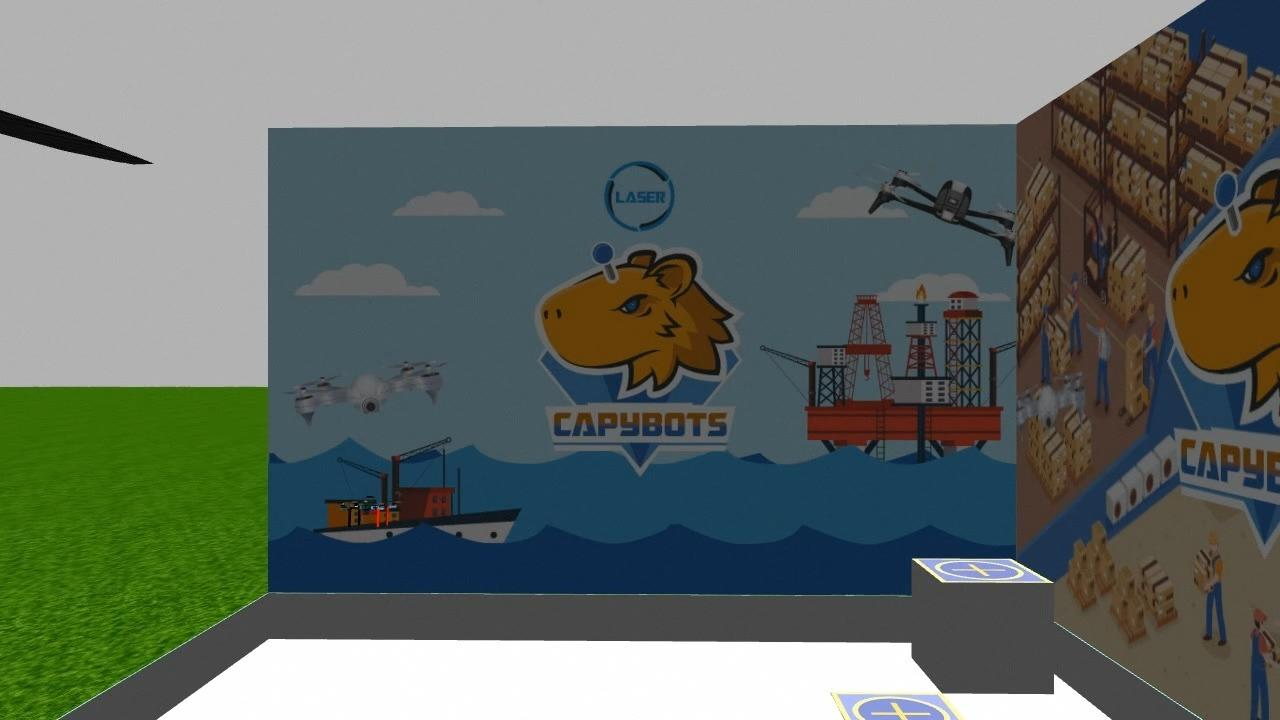UAV: (328, 481, 411, 538)
